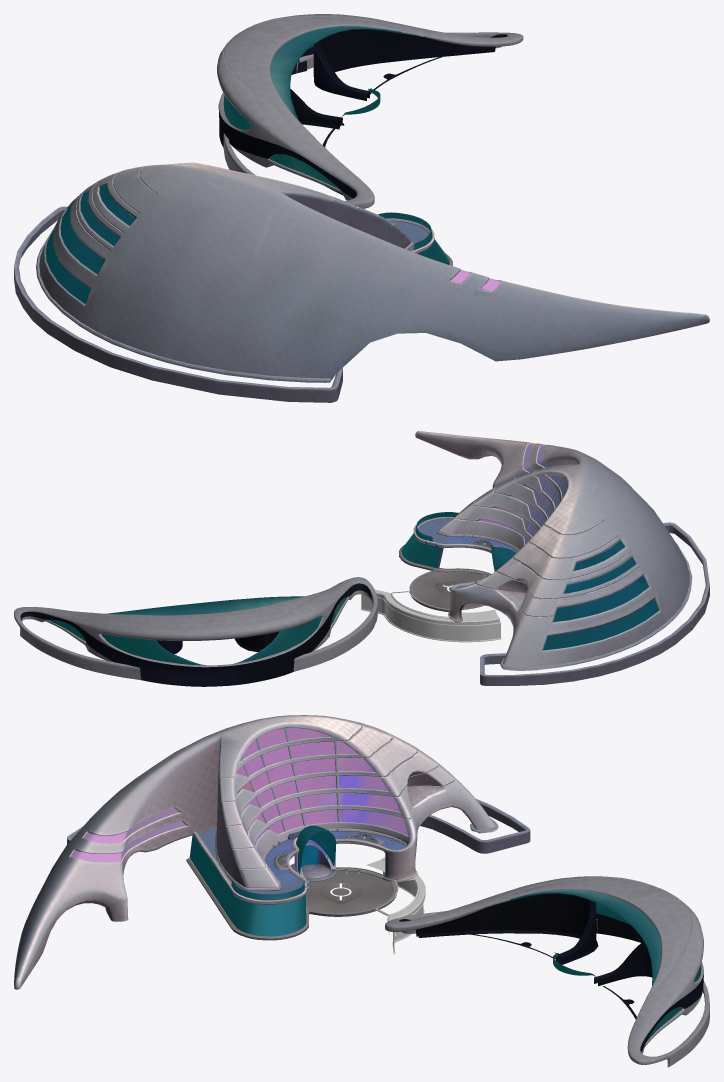
The model's file is pref_sm_4v4pointbake_WSJ_CSD_R_lv1.fbx.
3 views of the same model, one above another, from view 1: azimuth 30°, elevation 25°; view 2: azimuth 150°, elevation 25°; view 3: azimuth 270°, elevation 25° (orthographic). The views are drawn at different scales.
Visible parts, largest first — view 1: sm_4v4pointbake_WSJ_CSD_R_i_lv1, sm_4v4pointbake_WSJ_CSD_R_d_lv1, sm_4v4pointbake_WSJ_CSD_R_c_lv1, sm_4v4pointbake_WSJ_CSD_R_h_lv1, sm_4v4pointbake_WSJ_CSD_R_b_lv1; view 2: sm_4v4pointbake_WSJ_CSD_R_i_lv1, sm_4v4pointbake_WSJ_CSD_R_d_lv1, sm_4v4pointbake_WSJ_CSD_R_h_lv1, sm_4v4pointbake_WSJ_CSD_R_c_lv1, sm_4v4pointbake_WSJ_CSD_R_b_lv1, sm_4v4pointbake_WSJ_CSD_R_a_lv1, sm_4v4pointbake_WSJ_CSD_R_f_lv1; view 3: sm_4v4pointbake_WSJ_CSD_R_i_lv1, sm_4v4pointbake_WSJ_CSD_R_h_lv1, sm_4v4pointbake_WSJ_CSD_R_d_lv1, sm_4v4pointbake_WSJ_CSD_R_c_lv1, sm_4v4pointbake_WSJ_CSD_R_f_lv1, sm_4v4pointbake_WSJ_CSD_R_b_lv1, sm_4v4pointbake_WSJ_CSD_R_a_lv1.
Boxes of the visible parts, x1=… form: sm_4v4pointbake_WSJ_CSD_R_i_lv1: x1=14, y1=162, x2=709, y2=402; sm_4v4pointbake_WSJ_CSD_R_d_lv1: x1=217, y1=14, x2=523, y2=208; sm_4v4pointbake_WSJ_CSD_R_c_lv1: x1=218, y1=29, x2=507, y2=198; sm_4v4pointbake_WSJ_CSD_R_h_lv1: x1=46, y1=185, x2=500, y2=304; sm_4v4pointbake_WSJ_CSD_R_b_lv1: x1=223, y1=26, x2=413, y2=188; sm_4v4pointbake_WSJ_CSD_R_i_lv1: x1=399, y1=431, x2=709, y2=685; sm_4v4pointbake_WSJ_CSD_R_d_lv1: x1=14, y1=577, x2=377, y2=679; sm_4v4pointbake_WSJ_CSD_R_h_lv1: x1=401, y1=443, x2=659, y2=650; sm_4v4pointbake_WSJ_CSD_R_c_lv1: x1=20, y1=583, x2=371, y2=686; sm_4v4pointbake_WSJ_CSD_R_b_lv1: x1=47, y1=596, x2=347, y2=665; sm_4v4pointbake_WSJ_CSD_R_a_lv1: x1=361, y1=589, x2=501, y2=642; sm_4v4pointbake_WSJ_CSD_R_f_lv1: x1=412, y1=571, x2=487, y2=609; sm_4v4pointbake_WSJ_CSD_R_i_lv1: x1=14, y1=715, x2=530, y2=989; sm_4v4pointbake_WSJ_CSD_R_h_lv1: x1=70, y1=727, x2=408, y2=936; sm_4v4pointbake_WSJ_CSD_R_d_lv1: x1=385, y1=876, x2=709, y2=1067; sm_4v4pointbake_WSJ_CSD_R_c_lv1: x1=399, y1=893, x2=703, y2=1052; sm_4v4pointbake_WSJ_CSD_R_f_lv1: x1=305, y1=871, x2=393, y2=913; sm_4v4pointbake_WSJ_CSD_R_b_lv1: x1=495, y1=889, x2=701, y2=1042; sm_4v4pointbake_WSJ_CSD_R_a_lv1: x1=366, y1=857, x2=425, y2=954.
Bounding box in the file's own units: 74.09 × 17.41 × 75.67.
